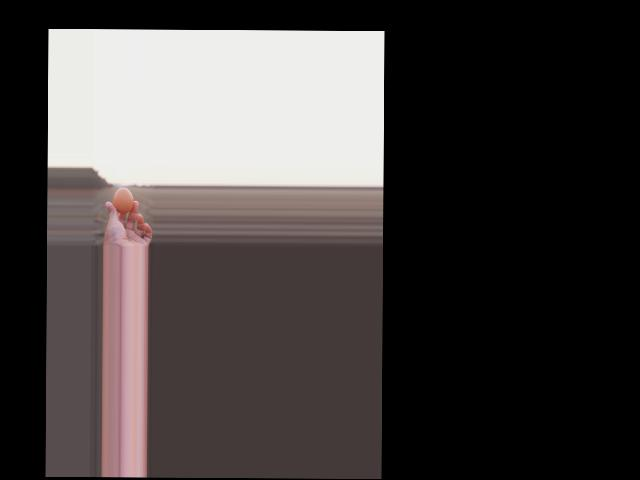egg: (113, 187, 133, 213)
